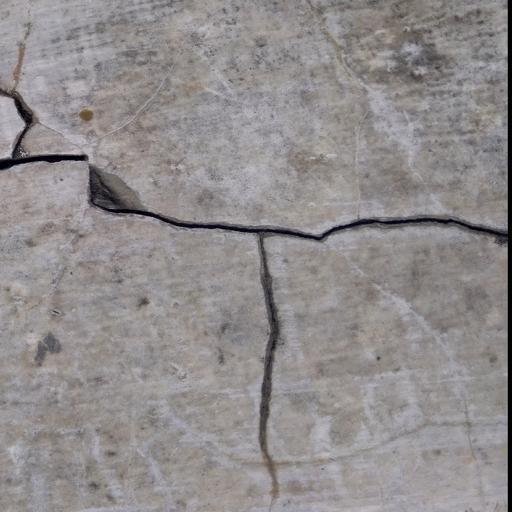major_crack: (8, 65, 512, 499)
